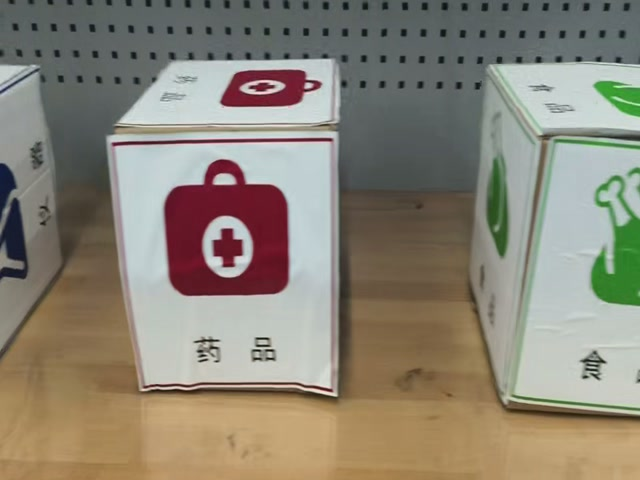Cube_food: (486, 62, 640, 144)
Cube_medicine: (110, 56, 342, 139)
